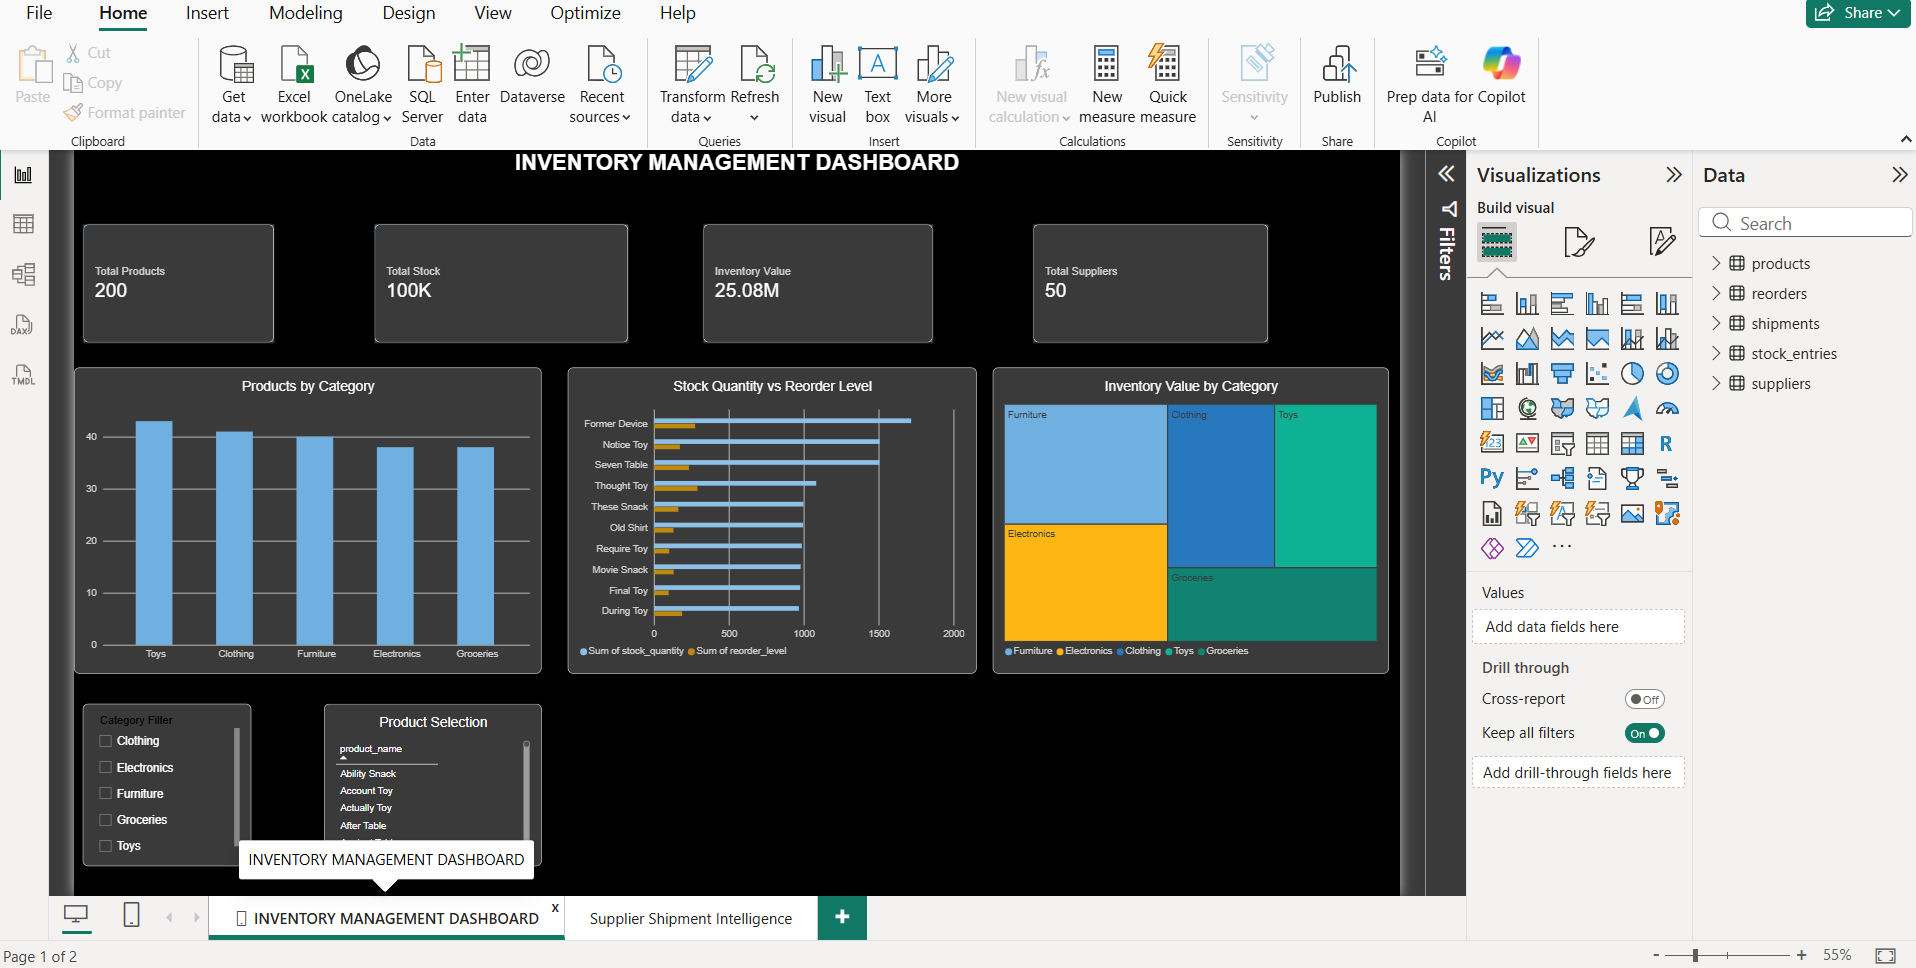

The dashboard page shown, as its layout file describes it:
{"tool":"powerbi","page":{"name":"INVENTORY MANAGEMENT DASHBOARD","canvas":[1920,1080],"ordinal":0},"visuals":[{"type":"cardVisual","title":"Total Products","fields":{"Data":["products.Total Products"]},"box":[12.7,106.8,278.7,173.7],"z":0},{"type":"cardVisual","fields":{"Data":["products.Total Stock"]},"box":[434.3,106.8,369.2,173.7],"z":1000},{"type":"cardVisual","fields":{"Data":["products.Inventory Value"]},"box":[910.3,106.8,334.8,173.7],"z":2000},{"type":"cardVisual","fields":{"Data":["products.Total Suppliers"]},"box":[1388,106.8,342,173.7],"z":3000},{"type":"clusteredColumnChart","title":"Products by Category","fields":{"Category":["products.category"],"Y":["CountNonNull(products.product_id)"]},"box":[0,314.9,676.8,443.4],"z":4000},{"type":"textbox","box":[0,0,1920.1,83.2],"z":5000},{"type":"clusteredBarChart","title":"Stock Quantity vs Reorder Level","fields":{"Category":["products.product_name"],"Y":["Sum(products.stock_quantity)","Sum(products.reorder_level)"]},"box":[714.8,314.9,591.8,443.4],"z":6000},{"type":"treemap","title":"Inventory Value by Category","fields":{"Group":["products.category"],"Values":["products.Inventory Value"]},"box":[1330.1,314.9,573.7,443.4],"z":7000},{"type":"slicer","fields":{"Values":["products.category"]},"box":[12.7,801.7,244.3,235.3],"z":8000},{"type":"tableEx","title":"Product Selection","fields":{"Values":["products.product_name"]},"box":[361.9,801.7,314.9,235.3],"z":9000}]}

Visuals, with their boxes on the page's 1920x1080 design canvas (x1, y1, x2, y2). These are canvas units, not pixel positions in the 1916x968 screenshot, which may show the page scaled, cropped or inside an application window:
"Total Products" cardVisual: <box>13,107,291,280</box>
cardVisual - products.Total Stock: <box>434,107,804,280</box>
cardVisual - products.Inventory Value: <box>910,107,1245,280</box>
cardVisual - products.Total Suppliers: <box>1388,107,1730,280</box>
"Products by Category" clusteredColumnChart: <box>0,315,677,758</box>
textbox: <box>0,0,1920,83</box>
"Stock Quantity vs Reorder Level" clusteredBarChart: <box>715,315,1307,758</box>
"Inventory Value by Category" treemap: <box>1330,315,1904,758</box>
slicer - products.category: <box>13,802,257,1037</box>
"Product Selection" tableEx: <box>362,802,677,1037</box>
